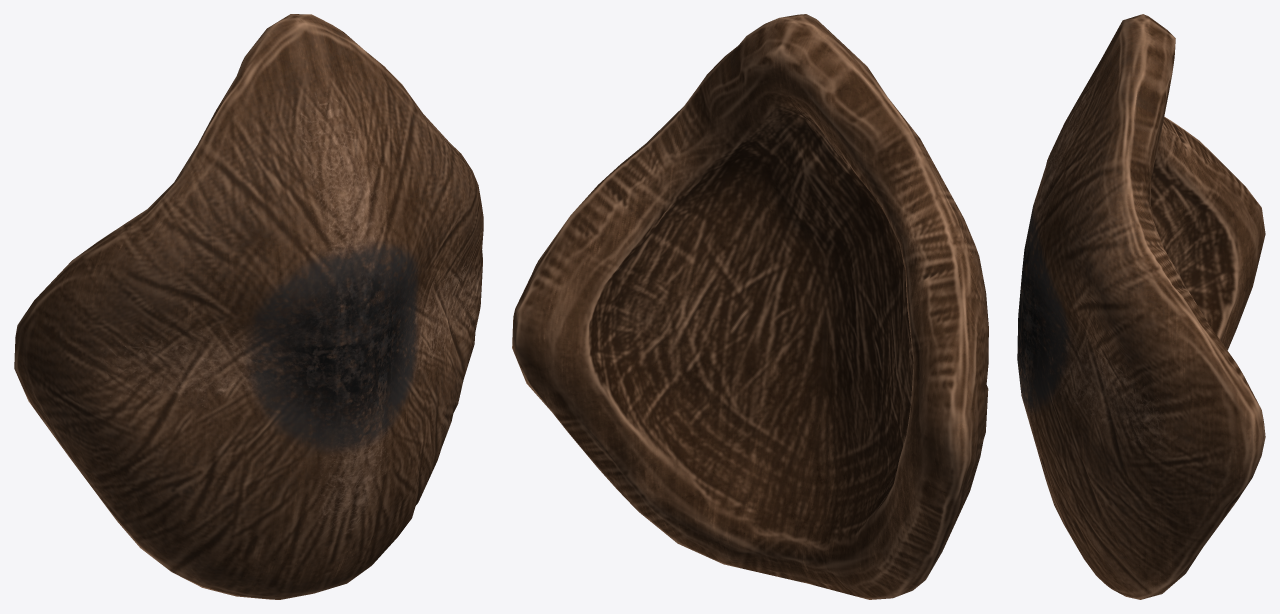
The model's file is INCREASING DAMAGE.fbx.
3 renders of one model, left to right at view 1: azimuth 30°, elevation 25°; view 2: azimuth 150°, elevation 25°; view 3: azimuth 270°, elevation 25°, orthographic. The views are drawn at different scales.
Parts seen in each view (by area): view 1: INCREASING DAMAGE; view 2: INCREASING DAMAGE; view 3: INCREASING DAMAGE.
Boxes of the visible parts, bbox=[...] form: INCREASING DAMAGE: bbox=[14, 14, 483, 599]; INCREASING DAMAGE: bbox=[512, 14, 988, 599]; INCREASING DAMAGE: bbox=[1017, 14, 1265, 599].
Size of the model in its own units: 29.55 by 35.42 by 14.44.
